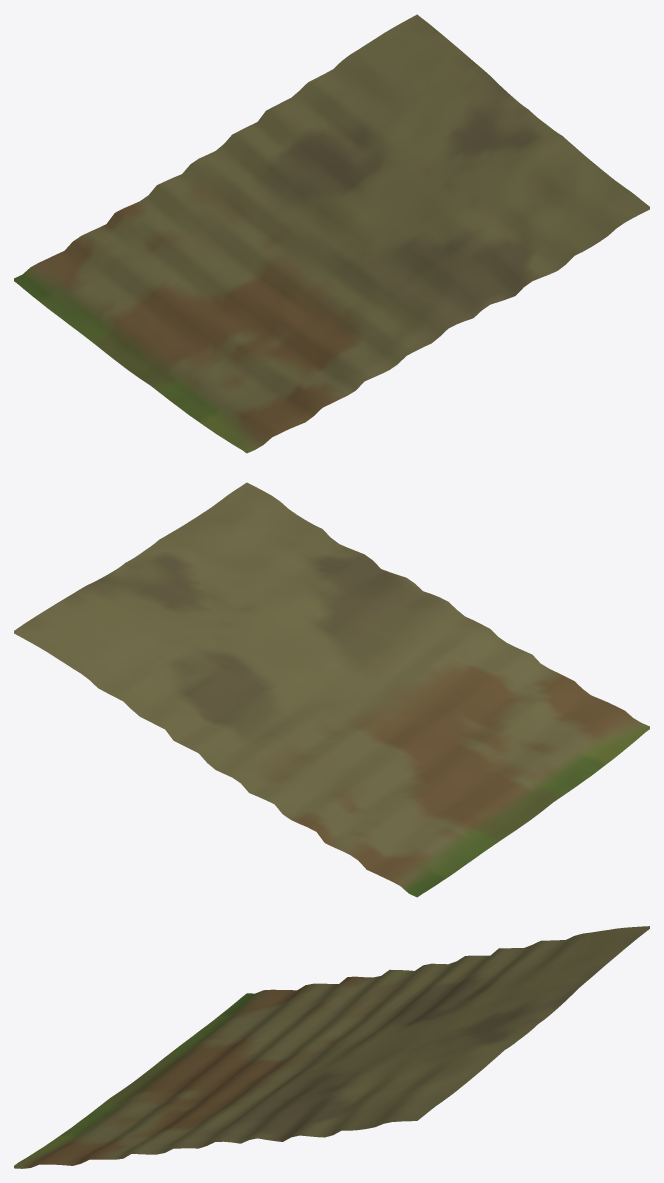
File: land_m_09_07.glb
3 views of the same model, one above another, from view 1: azimuth 30°, elevation 25°; view 2: azimuth 150°, elevation 25°; view 3: azimuth 330°, elevation 25° (orthographic).
Parts seen in each view (by area): view 1: land_m_09_07; view 2: land_m_09_07; view 3: land_m_09_07.
Part boxes in pixels (x1,y1,x2,y2): land_m_09_07: [14, 14, 649, 453]; land_m_09_07: [14, 482, 649, 897]; land_m_09_07: [14, 926, 649, 1168].
Bounding box in the file's own units: 960 × 396 × 960.
